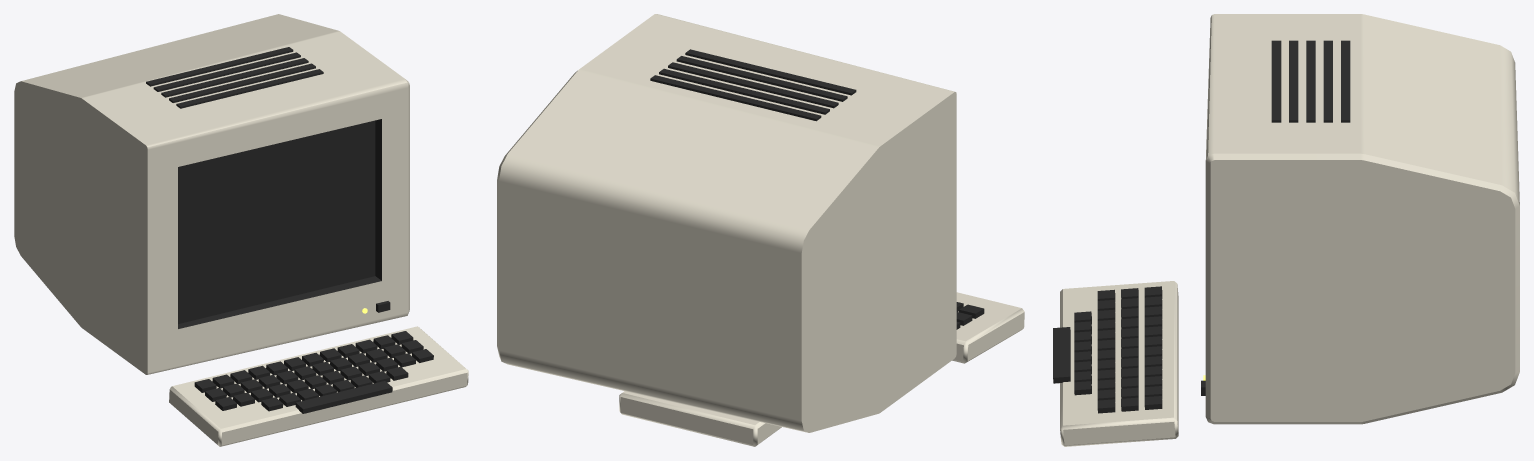
The model's file is terminal.glb.
3 views of the same model, side by side, from view 1: azimuth 30°, elevation 25°; view 2: azimuth 150°, elevation 25°; view 3: azimuth 270°, elevation 25° (orthographic). The views are drawn at different scales.
Visible parts, largest first — view 1: terminal; view 2: terminal; view 3: terminal.
Part boxes in pixels (x1,y1,x2,y2): terminal: (14,14,468,446); terminal: (497,14,1024,446); terminal: (1053,14,1519,446).
Bounding box in the file's own units: 0.44 × 0.4186 × 0.5945.
